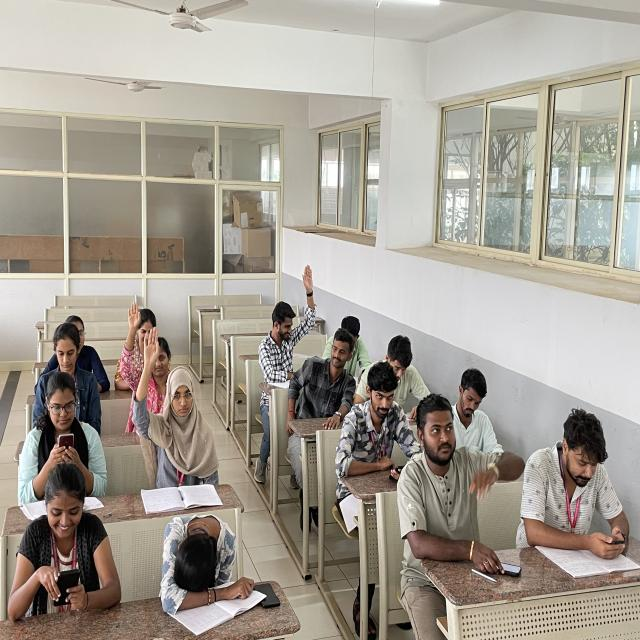Hand Rising: (142, 328, 216, 477), (252, 266, 314, 370), (120, 303, 173, 412)
Sleeping: (153, 514, 251, 606)
Using Phone: (397, 392, 521, 584), (528, 401, 632, 554), (23, 467, 122, 614), (19, 368, 106, 503), (345, 367, 415, 498)
